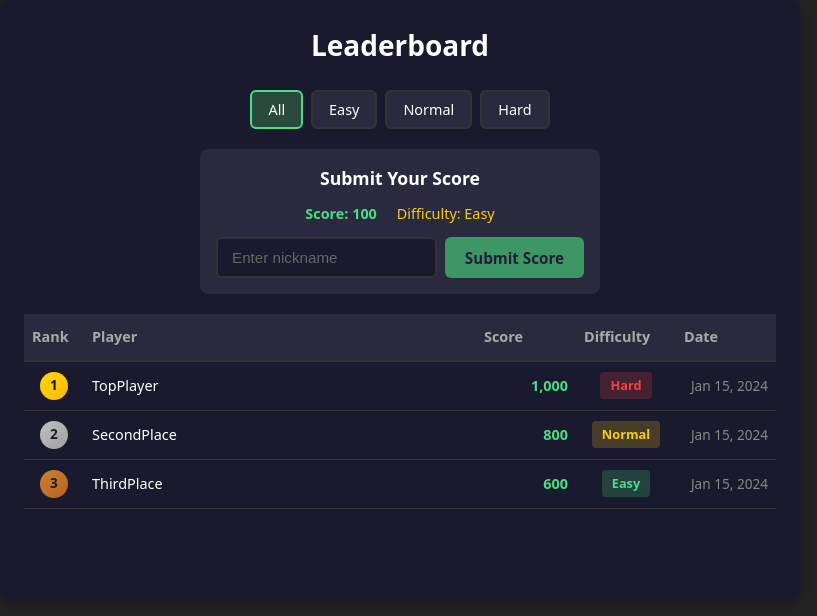
Test case: Leaderboard › score submission › shows success message after successful submission
The image size is (817, 616).
Step 1. Type "TestPlayer" into the field with test id "nickname-input" → (326, 258), box 216,237 -> 437,278
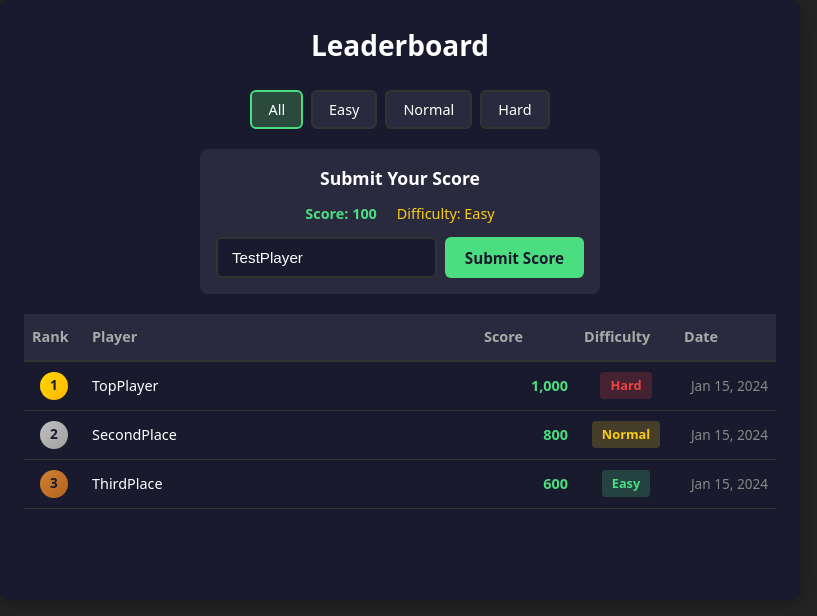
Step 2. Click the button with test id "submit-score-button" → (514, 258), box 445,237 -> 584,278
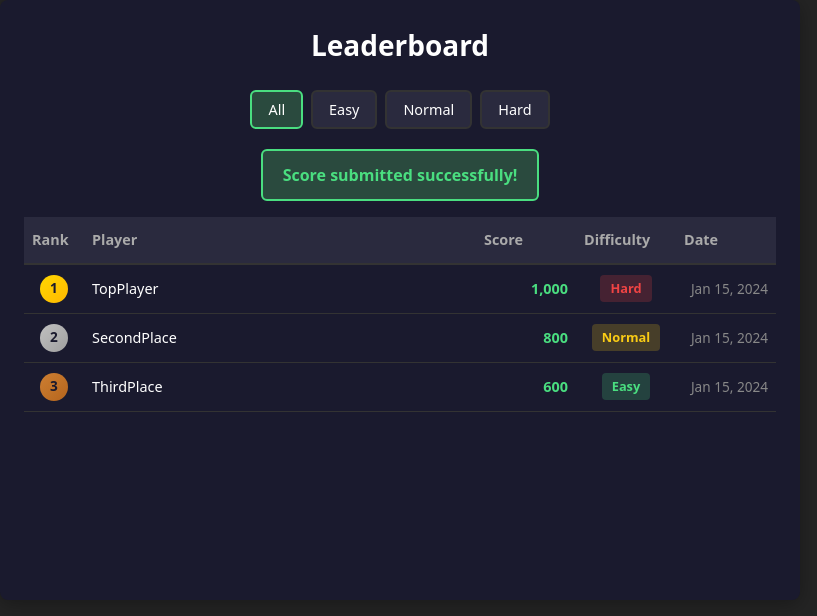
Check: the text "Score submitted successfully!" is shown, box 261,149 -> 539,201
